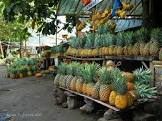Pineapple: (99, 69, 113, 102), (115, 78, 128, 108), (150, 28, 161, 56), (132, 28, 142, 55)
